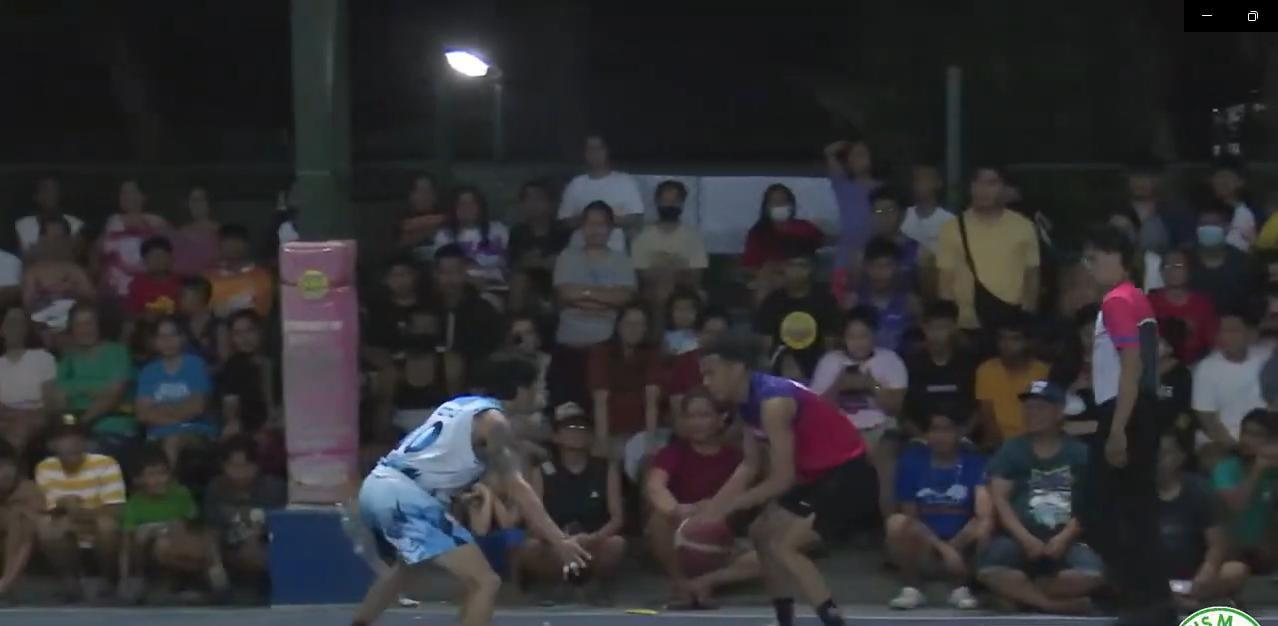ball: (655, 497, 742, 587)
human: (323, 333, 606, 626), (628, 318, 893, 626), (1038, 220, 1183, 626)
